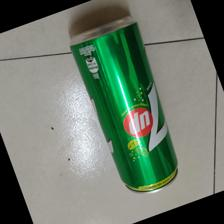7up: (70, 15, 179, 195)
